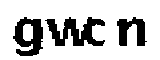c: (87, 19, 112, 52)
g: (9, 13, 46, 60)
n: (117, 13, 147, 50)
w: (46, 17, 89, 48)
